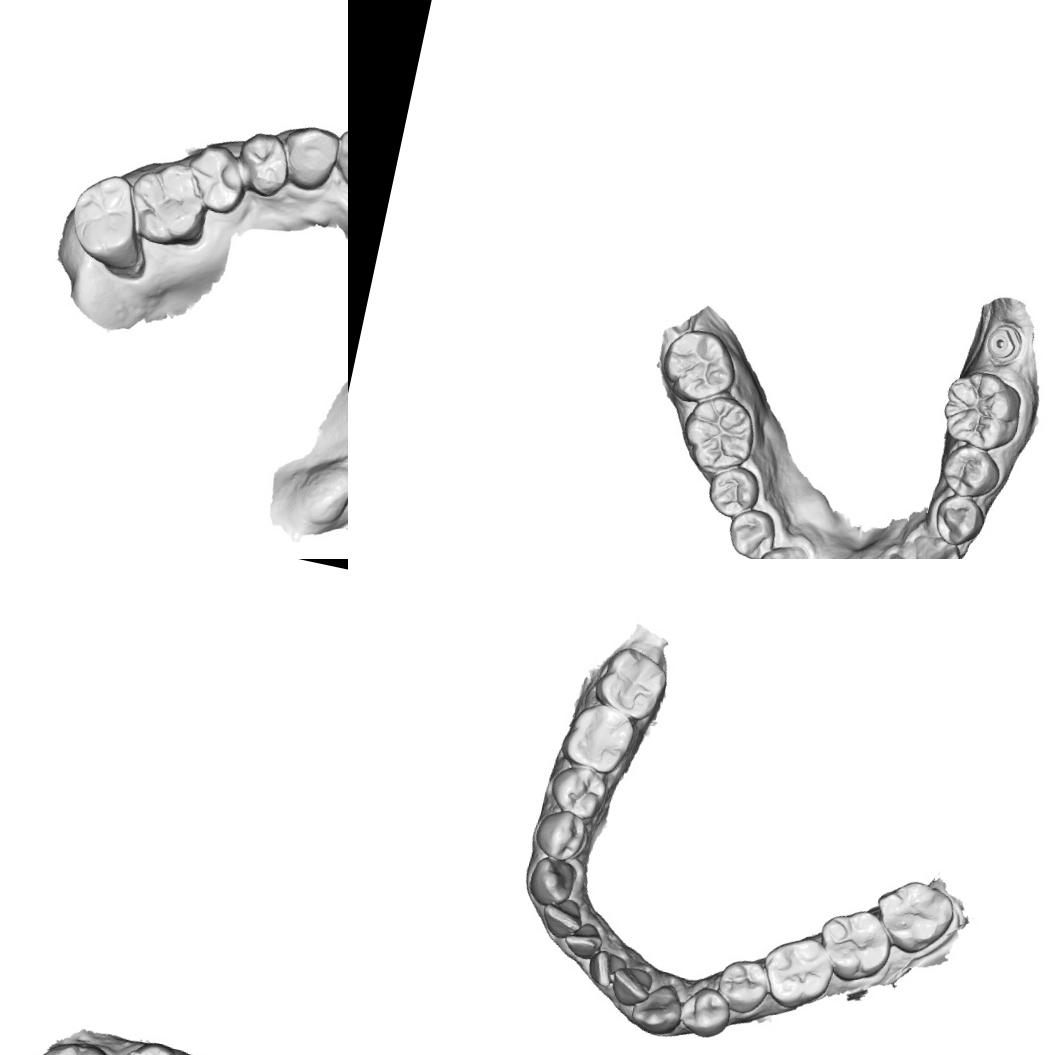canine: (273, 119, 345, 198), (627, 978, 687, 1040), (524, 854, 579, 912), (904, 531, 965, 559), (751, 538, 810, 559)
implant: (982, 316, 1028, 372)
incisor: (538, 893, 586, 942), (607, 963, 655, 1011), (560, 917, 606, 962), (584, 948, 630, 991), (325, 124, 348, 198)
molar: (58, 164, 156, 276), (116, 150, 220, 255), (934, 364, 1028, 456), (868, 873, 960, 961), (675, 389, 762, 481), (655, 323, 744, 411), (811, 902, 898, 988), (589, 642, 672, 724), (558, 696, 638, 778), (108, 1033, 209, 1055), (20, 1034, 123, 1055)
premolar: (755, 928, 840, 1016), (176, 136, 254, 220), (229, 126, 300, 203), (936, 440, 1005, 504), (712, 954, 774, 1018), (928, 489, 990, 552), (531, 804, 594, 866), (546, 761, 610, 822), (704, 460, 764, 522), (677, 982, 735, 1043), (723, 504, 780, 559)
